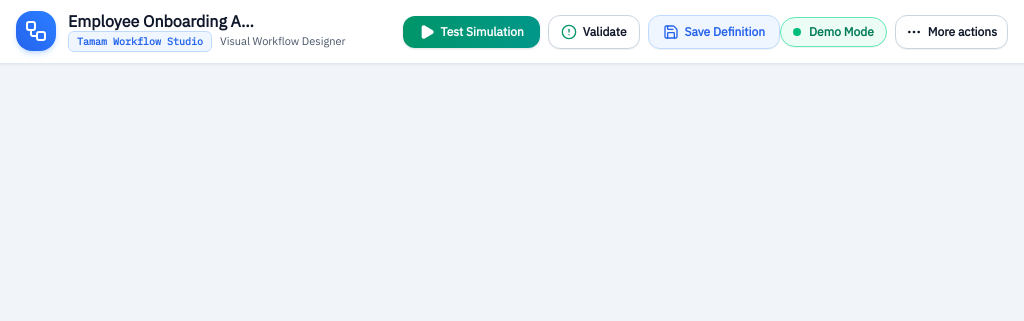
Test: HeaderToolbar UI & UX Refinements › groups Export, Import, Saved DB, and Reset into the accessible More (⋯) overflow menu
Expected: the menu item "Export JSON" is not shown
# Click to open overflow menu
What coordinates should you click on to do the following:
click the button "More actions"
I would click on:
 (951, 32)
Its box is [895,14,1008,48].
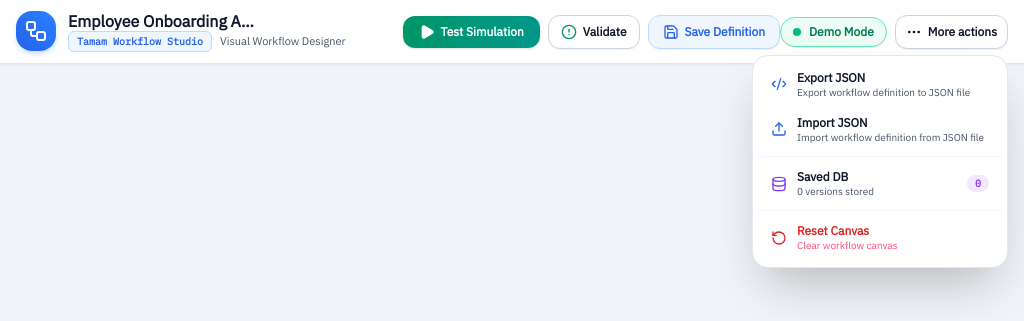
Expected: the menu item "Export JSON Export workflow definition to JSON file" is shown, [759,62,1001,107]
Expected: the menu item "Import JSON Import workflow definition from JSON file" is shown, [759,107,1001,152]
Expected: the menu item "Saved DB 0 versions stored 0" is shown, [759,161,1001,206]
